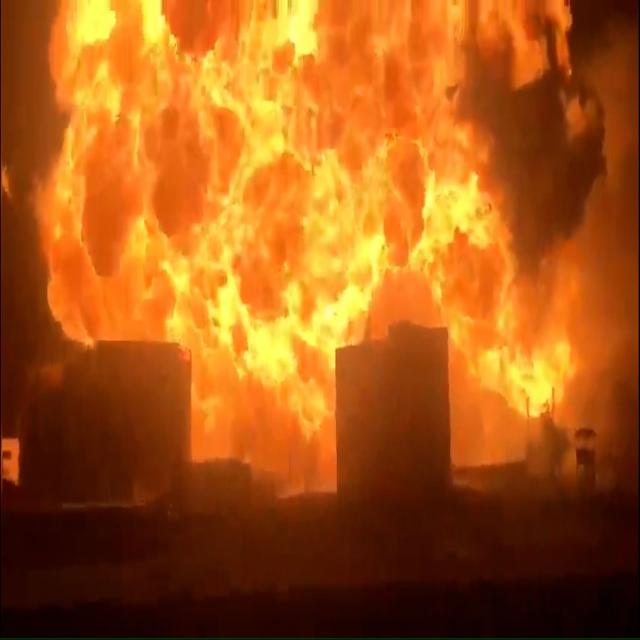fire: (259, 0, 600, 573), (69, 6, 258, 370)
